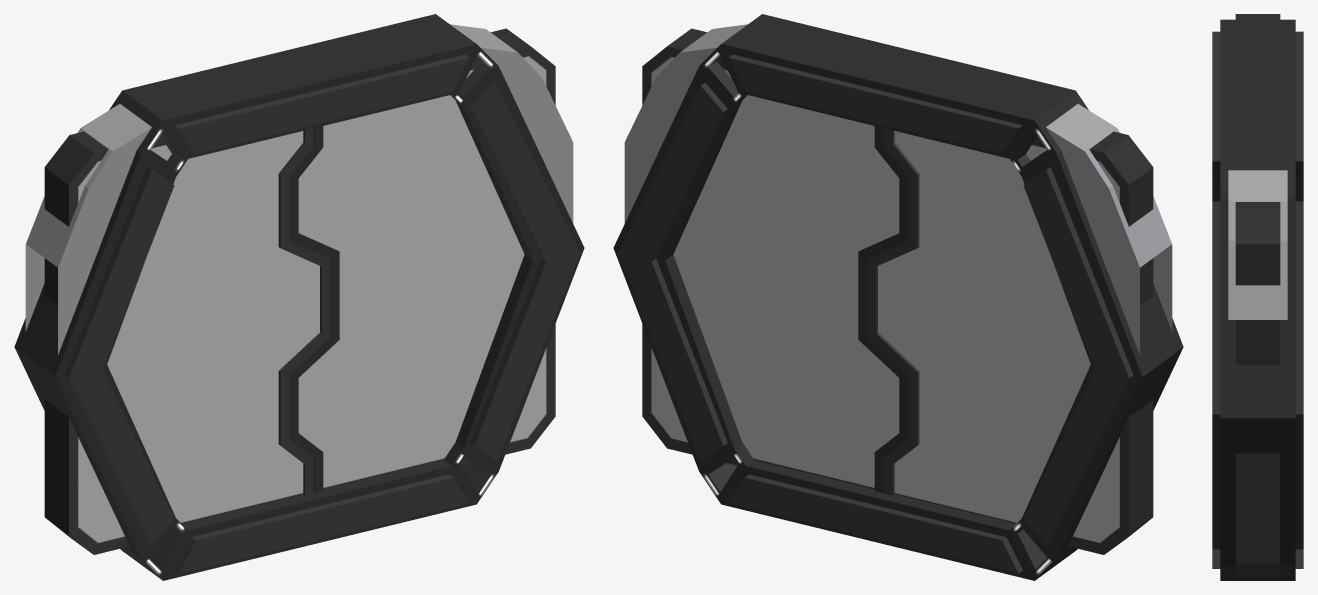
Rendered from Gate.fbx.
The picture shows the model from 3 angles, left to right: view 1: azimuth 30°, elevation 25°; view 2: azimuth 150°, elevation 25°; view 3: azimuth 270°, elevation 25°; orthographic projection. The views are drawn at different scales.
Visible parts, largest first — view 1: Gate; view 2: Gate; view 3: Gate.
Part boxes in pixels (x1=…): Gate: x1=14, y1=14, x2=584, y2=580; Gate: x1=613, y1=14, x2=1183, y2=580; Gate: x1=1212, y1=14, x2=1303, y2=580.
Size of the model in its own units: 441 by 367 by 72.26.
